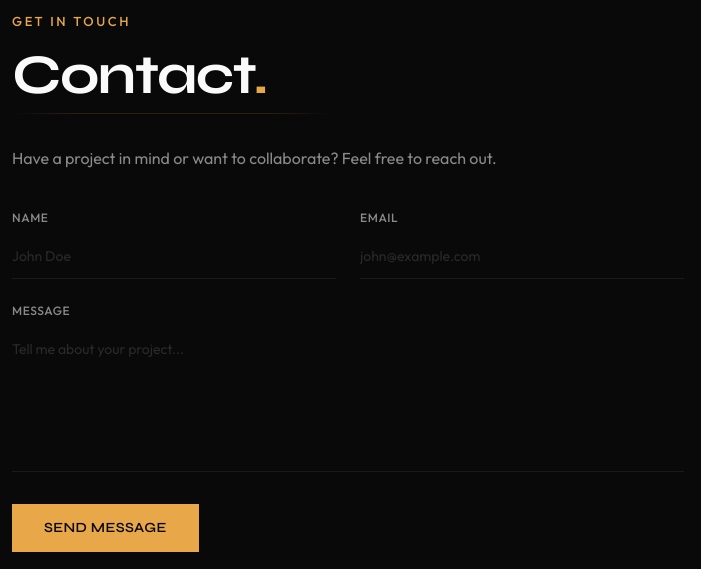
Contact › disables submit button while loading
The image size is (701, 569).
Type "Jane" into the field with placeholder "John Doe". click: (174, 257)
box: 12,234 -> 336,279
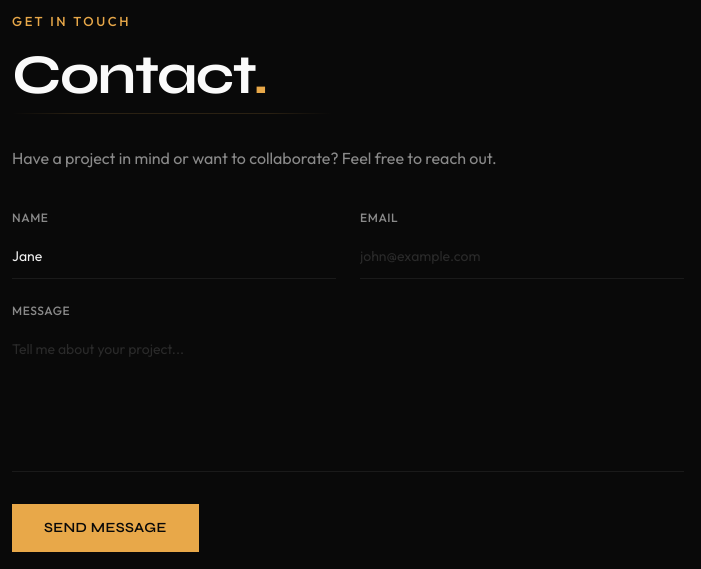
Type "jane@test.com" into the field with placeholder "john@example.com". click: (522, 257)
box: 360,234 -> 684,279
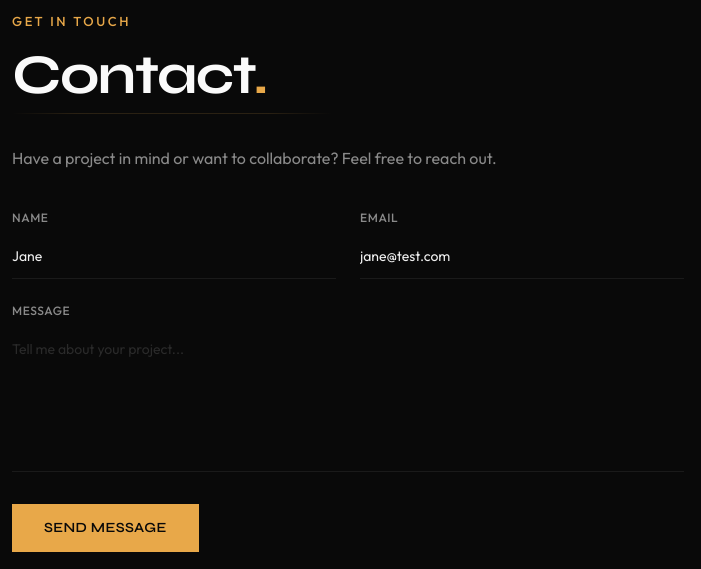
Type "Test" into the text box with placeholder "Tell me about your project...". click: (348, 400)
box: 12,327 -> 684,472
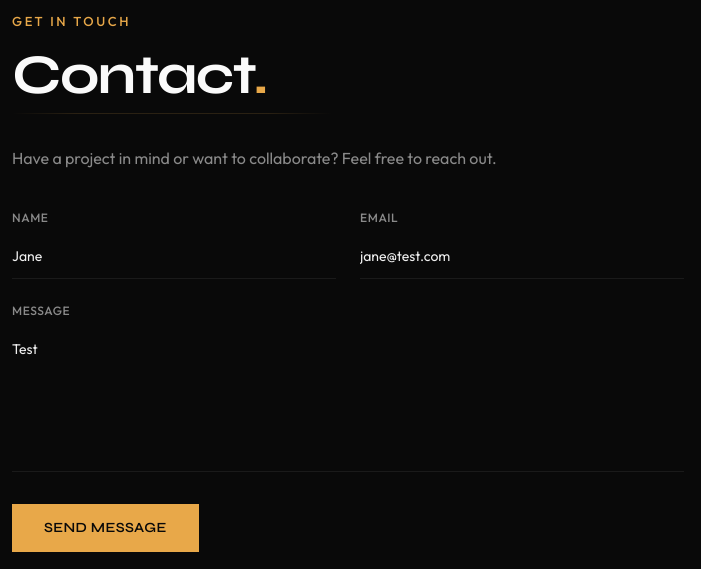
Submit the form with placeholder "John Doe", box 12,210 -> 684,552
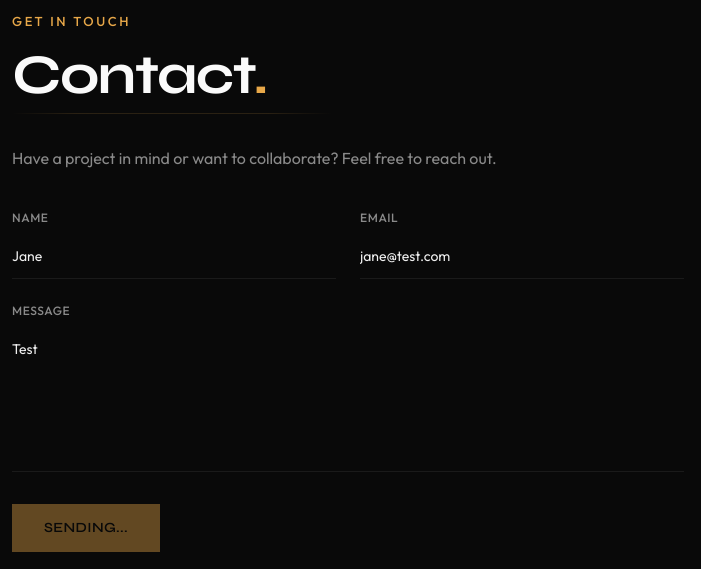
Result: the button is disabled at 12,504 -> 160,552
Result: the button reads "Sending..." at 12,504 -> 160,552
